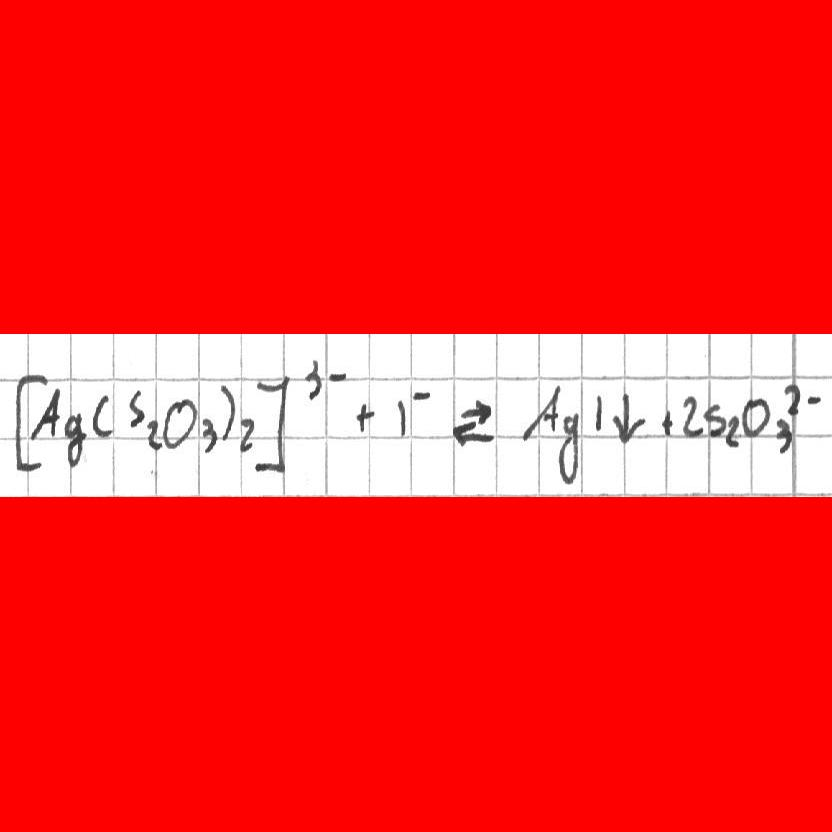Char: (10, 371, 47, 473), (253, 374, 291, 472), (447, 397, 501, 447), (520, 383, 560, 444), (610, 389, 647, 445), (161, 396, 197, 452), (30, 384, 63, 443), (555, 410, 579, 490), (60, 412, 89, 469), (740, 396, 771, 438), (218, 383, 238, 444), (90, 392, 114, 439), (302, 356, 326, 403), (679, 394, 701, 439), (702, 402, 728, 439), (238, 415, 259, 455), (774, 415, 793, 456), (782, 381, 803, 418), (394, 397, 411, 440), (127, 388, 145, 428), (354, 400, 376, 432), (144, 417, 162, 453), (201, 417, 218, 454), (593, 392, 607, 432), (724, 413, 740, 447), (660, 408, 678, 437), (804, 391, 823, 409), (409, 389, 435, 402), (327, 369, 348, 385)
